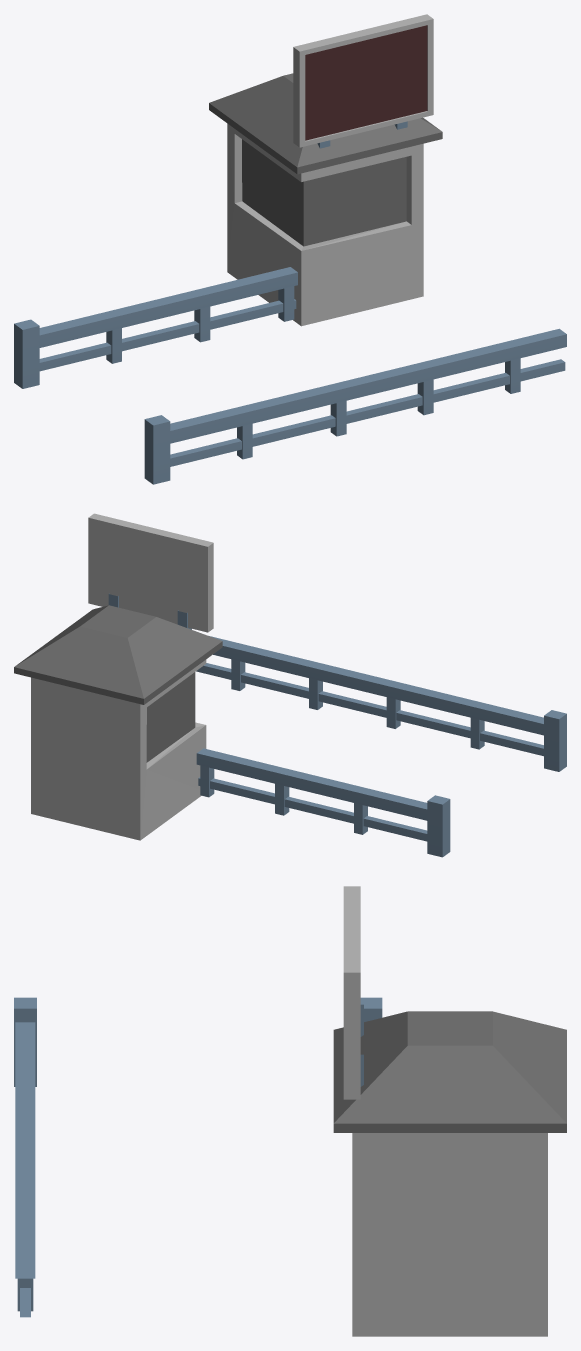
File: damen_shoufei.FBX
The picture shows the model from 3 angles, top to bottom: view 1: azimuth 30°, elevation 25°; view 2: azimuth 150°, elevation 25°; view 3: azimuth 270°, elevation 25°; orthographic projection. The views are drawn at different scales.
Visible parts, largest first — view 1: damen_shoufei; view 2: damen_shoufei; view 3: damen_shoufei.
Boxes of the visible parts, <box> form: damen_shoufei: <box>14,14,566,484</box>; damen_shoufei: <box>14,513,566,857</box>; damen_shoufei: <box>14,886,566,1336</box>.
Bounding box in the file's own units: 1014 × 651 × 886.
